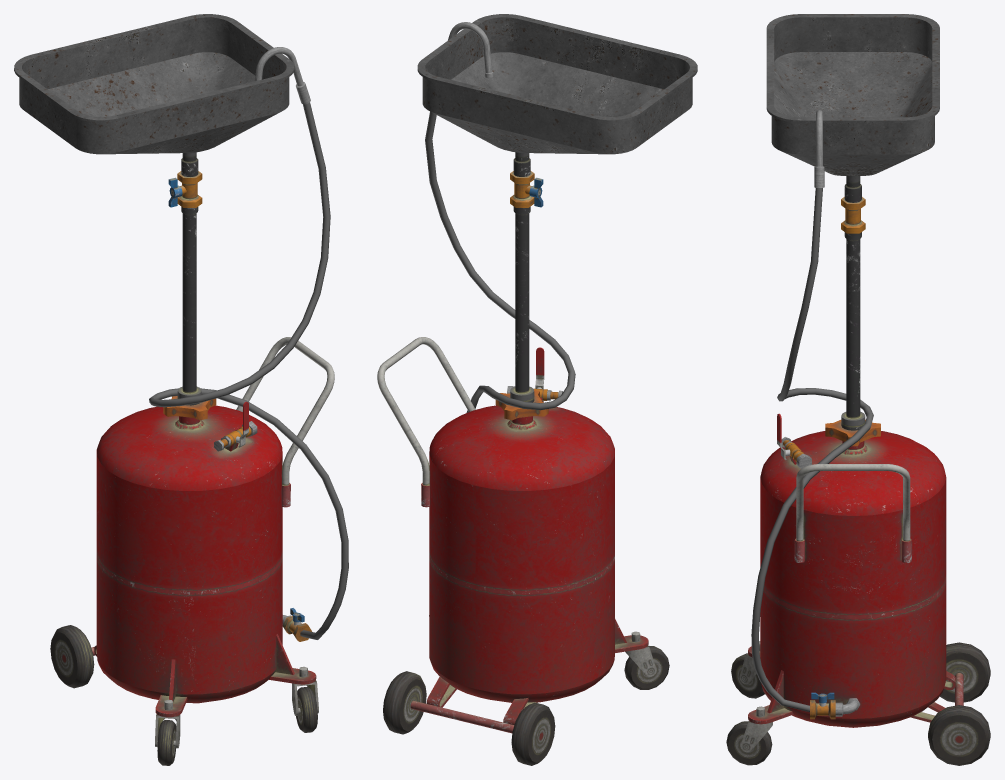
Rendered from CR_Oil_drainer.fbx.
3 renders of one model, left to right at view 1: azimuth 30°, elevation 25°; view 2: azimuth 150°, elevation 25°; view 3: azimuth 270°, elevation 25°, orthographic.
Visible parts, largest first — view 1: Oil_drainer; view 2: Oil_drainer; view 3: Oil_drainer.
Boxes of the visible parts, x1,y1,x2,y2 form: Oil_drainer: [14, 14, 348, 765]; Oil_drainer: [377, 14, 697, 765]; Oil_drainer: [726, 14, 990, 765].
Size of the model in its own units: 65.57 by 153 by 55.97.
